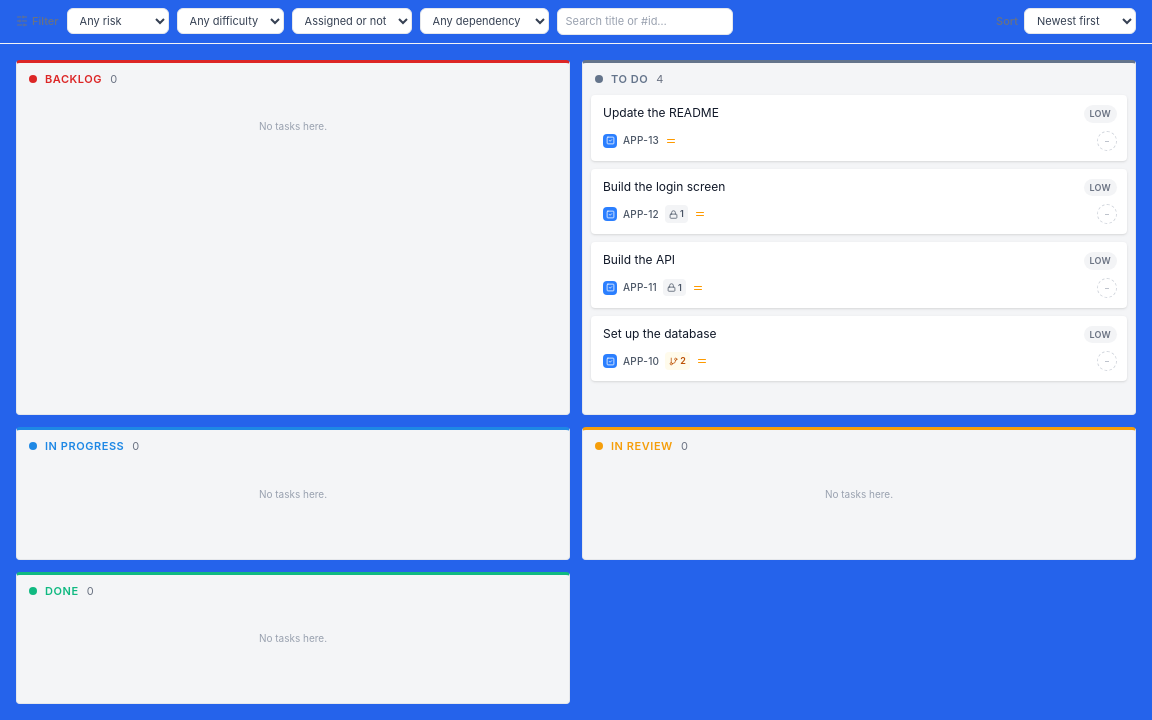
KanbanBoard dependency ordering › narrows the board to what is blocking others
The width and height of the screenshot is (1152, 720).
Expected: the text "Set up the database" is shown, [603,326,717,340]
Select "Blocking others" in the dropdown named "Filter by dependency" at (484, 21), box [420,8,548,34]
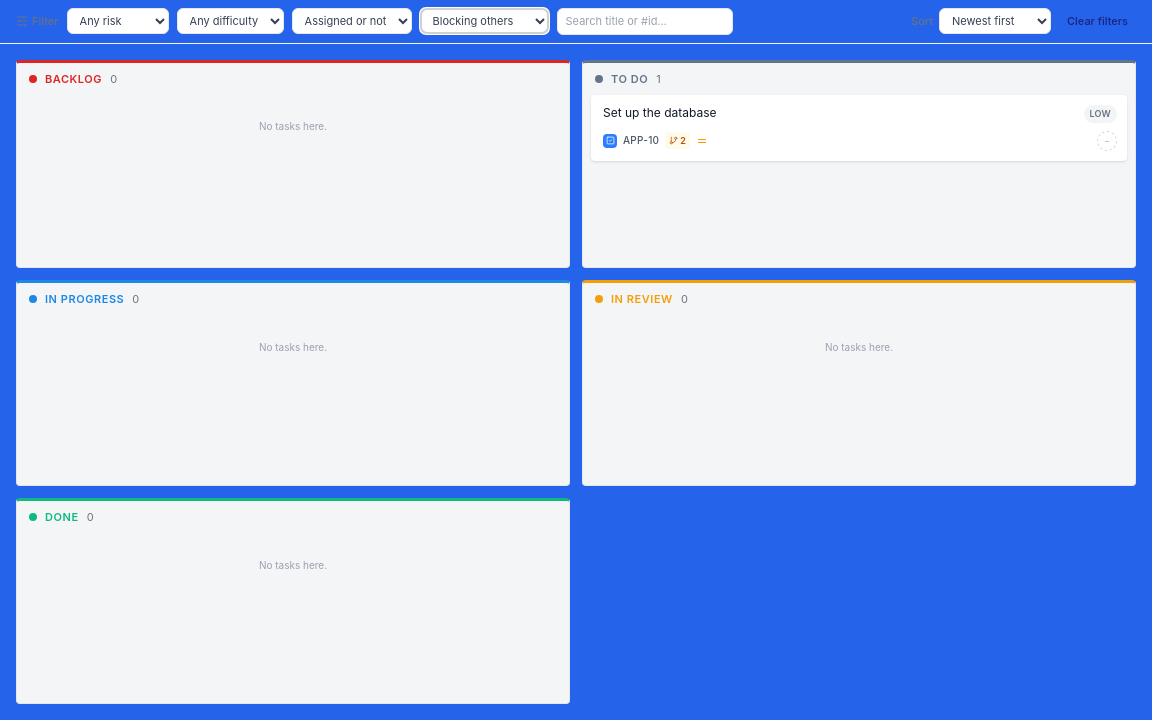
Expected: the text "Set up the database" is shown, [603,105,717,120]
Expected: the button "Update the README" is gone
